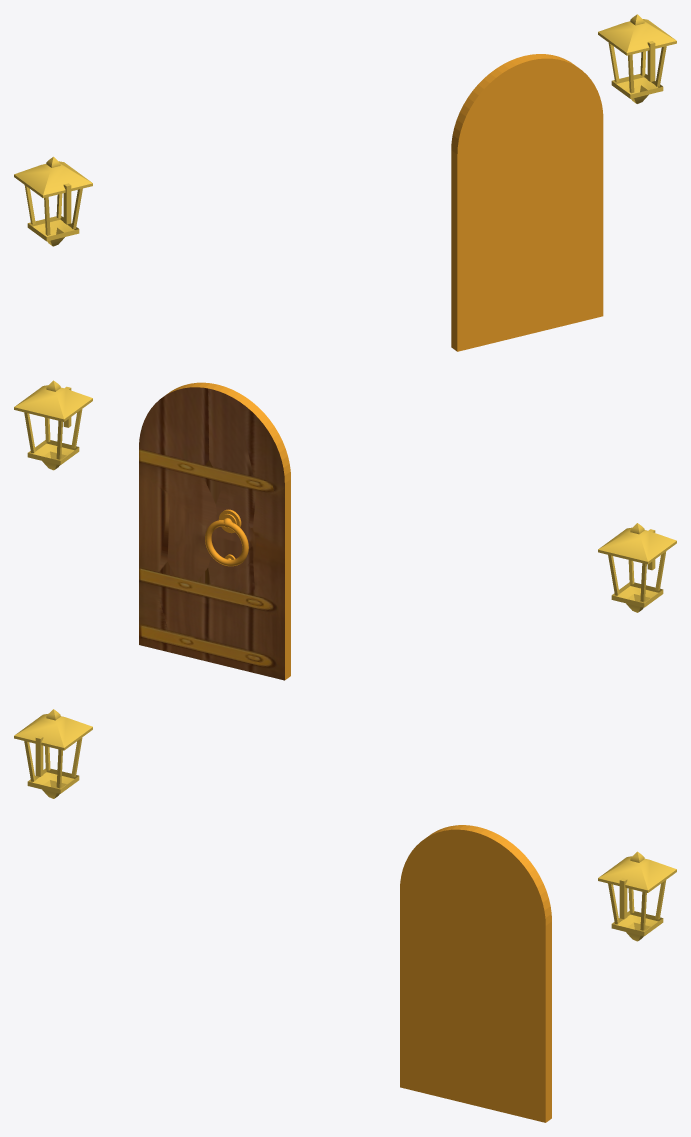
The model's file is HaloShop_Juice_deco.glb.
The picture shows the model from 3 angles, top to bottom: view 1: azimuth 30°, elevation 25°; view 2: azimuth 150°, elevation 25°; view 3: azimuth 330°, elevation 25°; orthographic projection.
Parts seen in each view (by area): view 1: HaloShop_Juice_Leaf, HaloShop_Juice_Lantern1, HaloShop_Juice_Lantern0; view 2: HaloShop_Juice_Leaf, HaloShop_Juice_Lantern1, HaloShop_Juice_Lantern0, Orn_HaloShop_Juice_Knocker; view 3: HaloShop_Juice_Leaf, HaloShop_Juice_Lantern0, HaloShop_Juice_Lantern1.
Boxes of the visible parts, bbox=[...] form: HaloShop_Juice_Leaf: bbox=[451, 54, 603, 351]; HaloShop_Juice_Lantern1: bbox=[14, 156, 92, 246]; HaloShop_Juice_Lantern0: bbox=[598, 14, 676, 103]; HaloShop_Juice_Leaf: bbox=[139, 382, 290, 680]; HaloShop_Juice_Lantern1: bbox=[598, 523, 676, 612]; HaloShop_Juice_Lantern0: bbox=[14, 380, 92, 470]; Orn_HaloShop_Juice_Knocker: bbox=[205, 509, 248, 566]; HaloShop_Juice_Leaf: bbox=[400, 825, 551, 1122]; HaloShop_Juice_Lantern0: bbox=[598, 851, 676, 941]; HaloShop_Juice_Lantern1: bbox=[14, 709, 92, 798].
Size of the model in its own units: 18.68 by 7.7 by 2.21.
Materials: 3 (1 with a texture image).
